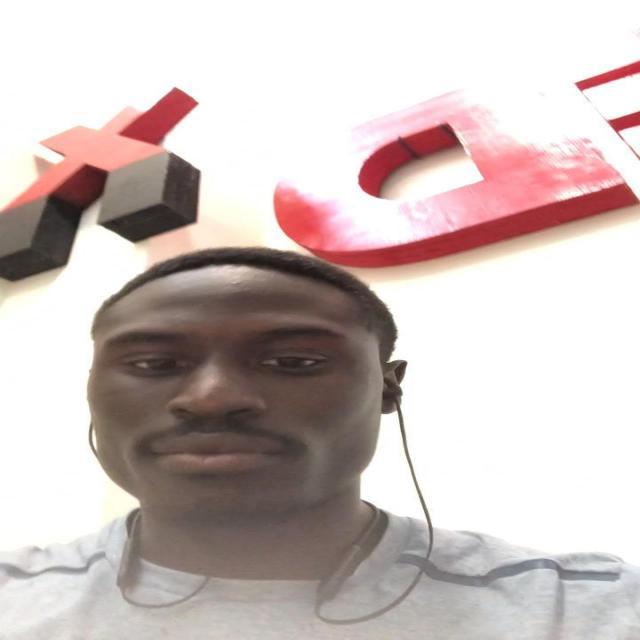face: (86, 285, 390, 529)
